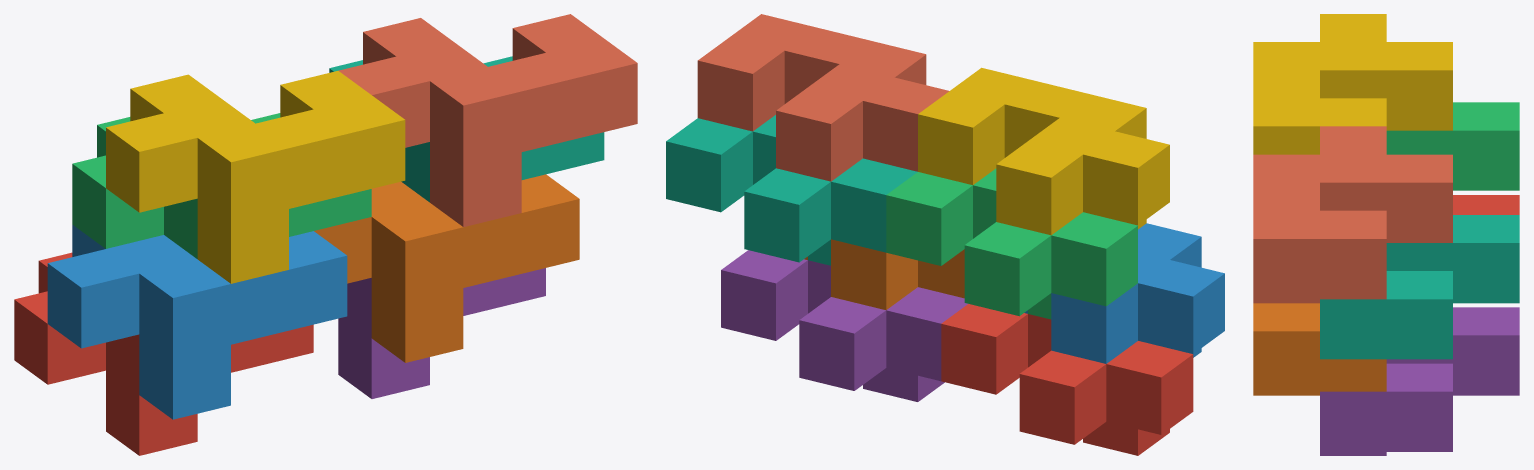
File: tiling.obj
3 renders of one model, left to right at view 1: azimuth 30°, elevation 25°; view 2: azimuth 150°, elevation 25°; view 3: azimuth 270°, elevation 25°, orthographic. The views are drawn at different scales.
Visible parts, largest first — view 1: copy_1_domain_4, copy_1_domain_8, copy_1_domain_2, copy_1_domain_6, copy_1_domain_1, copy_1_domain_3, copy_1_domain_5, copy_1_domain_7; view 2: copy_1_domain_4, copy_1_domain_8, copy_1_domain_1, copy_1_domain_3, copy_1_domain_5, copy_1_domain_7, copy_1_domain_2, copy_1_domain_6; view 3: copy_1_domain_8, copy_1_domain_4, copy_1_domain_7, copy_1_domain_5, copy_1_domain_6, copy_1_domain_3, copy_1_domain_1.
Part boxes in pixels (box(x1,y1,x2,y2)): copy_1_domain_4: box(106, 71, 405, 283); copy_1_domain_8: box(338, 14, 637, 226); copy_1_domain_2: box(47, 225, 347, 419); copy_1_domain_6: box(314, 174, 579, 362); copy_1_domain_1: box(14, 252, 313, 455); copy_1_domain_3: box(72, 113, 371, 258); copy_1_domain_5: box(338, 268, 545, 398); copy_1_domain_7: box(329, 56, 604, 202); copy_1_domain_4: box(918, 67, 1169, 235); copy_1_domain_8: box(697, 14, 949, 181); copy_1_domain_1: box(941, 304, 1193, 455); copy_1_domain_3: box(886, 168, 1137, 319); copy_1_domain_5: box(721, 250, 967, 401); copy_1_domain_7: box(666, 115, 917, 265); copy_1_domain_2: box(1024, 223, 1224, 363); copy_1_domain_6: box(804, 239, 964, 309); copy_1_domain_8: box(1253, 126, 1452, 303); copy_1_domain_4: box(1253, 14, 1452, 154); copy_1_domain_7: box(1320, 215, 1519, 359); copy_1_domain_5: box(1320, 307, 1519, 455); copy_1_domain_6: box(1253, 303, 1386, 395); copy_1_domain_3: box(1386, 102, 1519, 190); copy_1_domain_1: box(1453, 195, 1519, 214).
Size of the model in its own units: 9 by 5 by 4.
